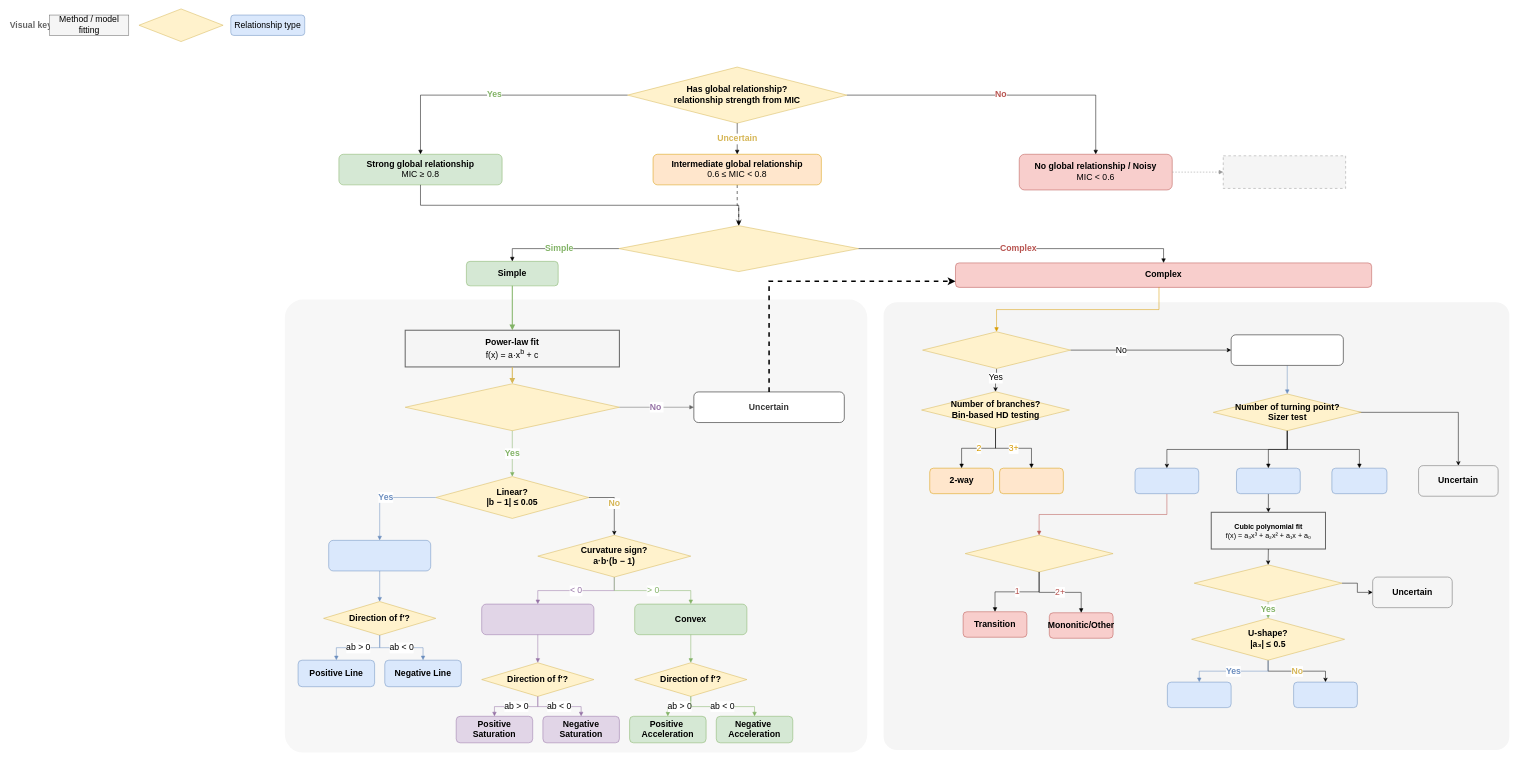
This 1518x761 diagram has some shape labels left out. The shapes that lost their labels are listed below. From the top down, each one's centre as x and y in pixels, then its label:
At pixel 180 25: "Decision / criterion".
At pixel 1284 171: "→ Check local relationship".
At pixel 738 248: "Simple or Complex? Simple = |Pearson| ≥ 0.7".
At pixel 996 349: "Has branches?".
At pixel 1287 349: "No branch pool".
At pixel 512 407: "Adequate power-law fit? R² power ≥ 0.85".
At pixel 1031 481: "n-way".
At pixel 1166 481: "0 TP".
At pixel 1268 481: "1-2 TP".
At pixel 1359 481: "3+ TP".
At pixel 379 555: "Linear".
At pixel 1039 553: "Number of multimodal HD testing".
At pixel 1268 583: "cubic polynomial fit R² power ≥ 0.85".
At pixel 537 619: "Concave".
At pixel 1199 695: "U-shape".
At pixel 1325 695: "Cubic".
